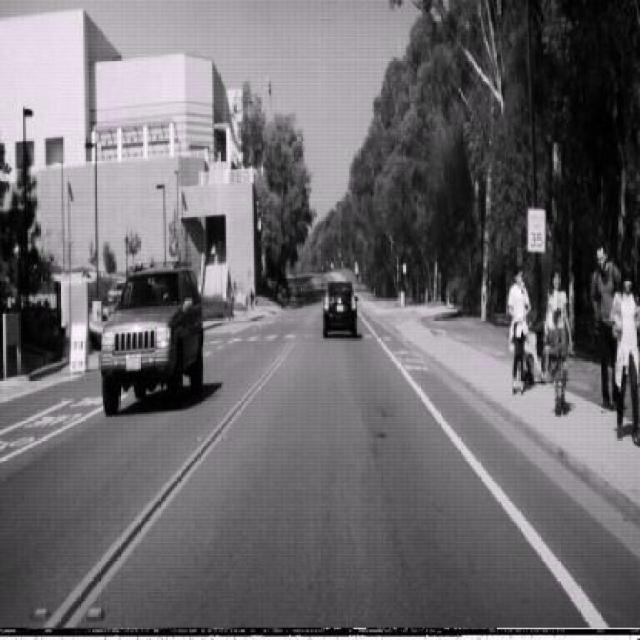speedLimit35: (526, 208, 546, 255)
